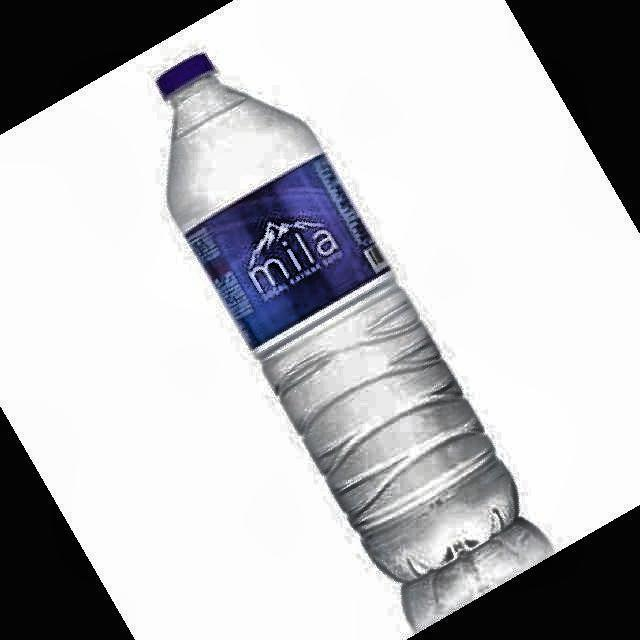plastic: (159, 56, 518, 582)
